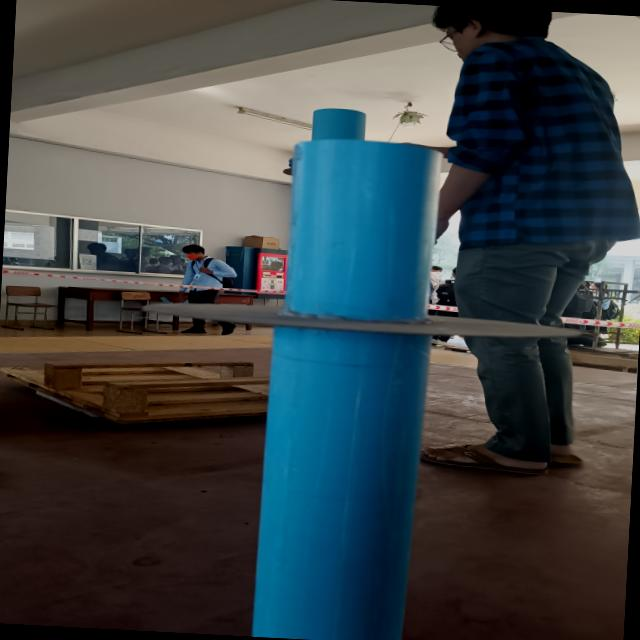pole: (118, 100, 640, 546)
